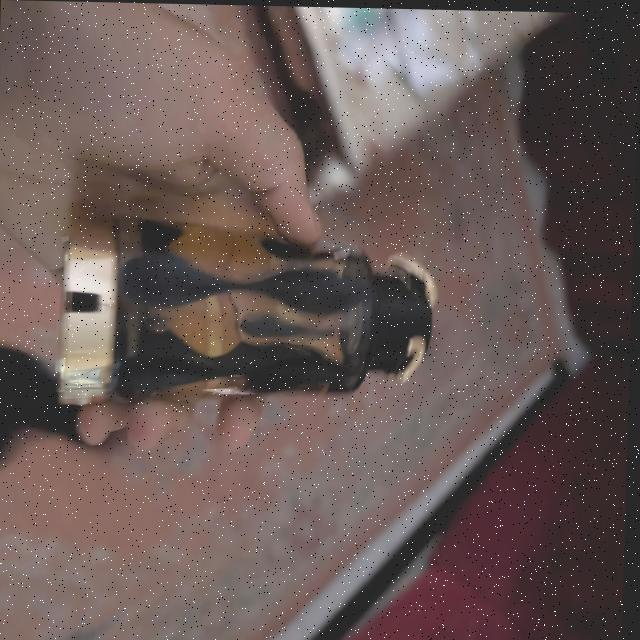Teriaq-Intense: (54, 207, 440, 416)
